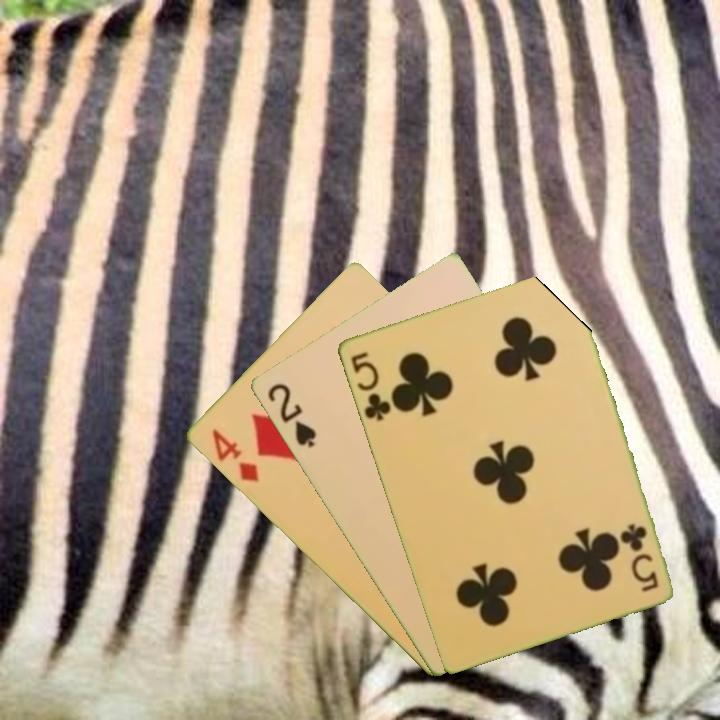2s: (263, 379, 319, 451)
4d: (208, 425, 262, 486)
5c: (346, 348, 394, 424), (618, 520, 661, 595)
